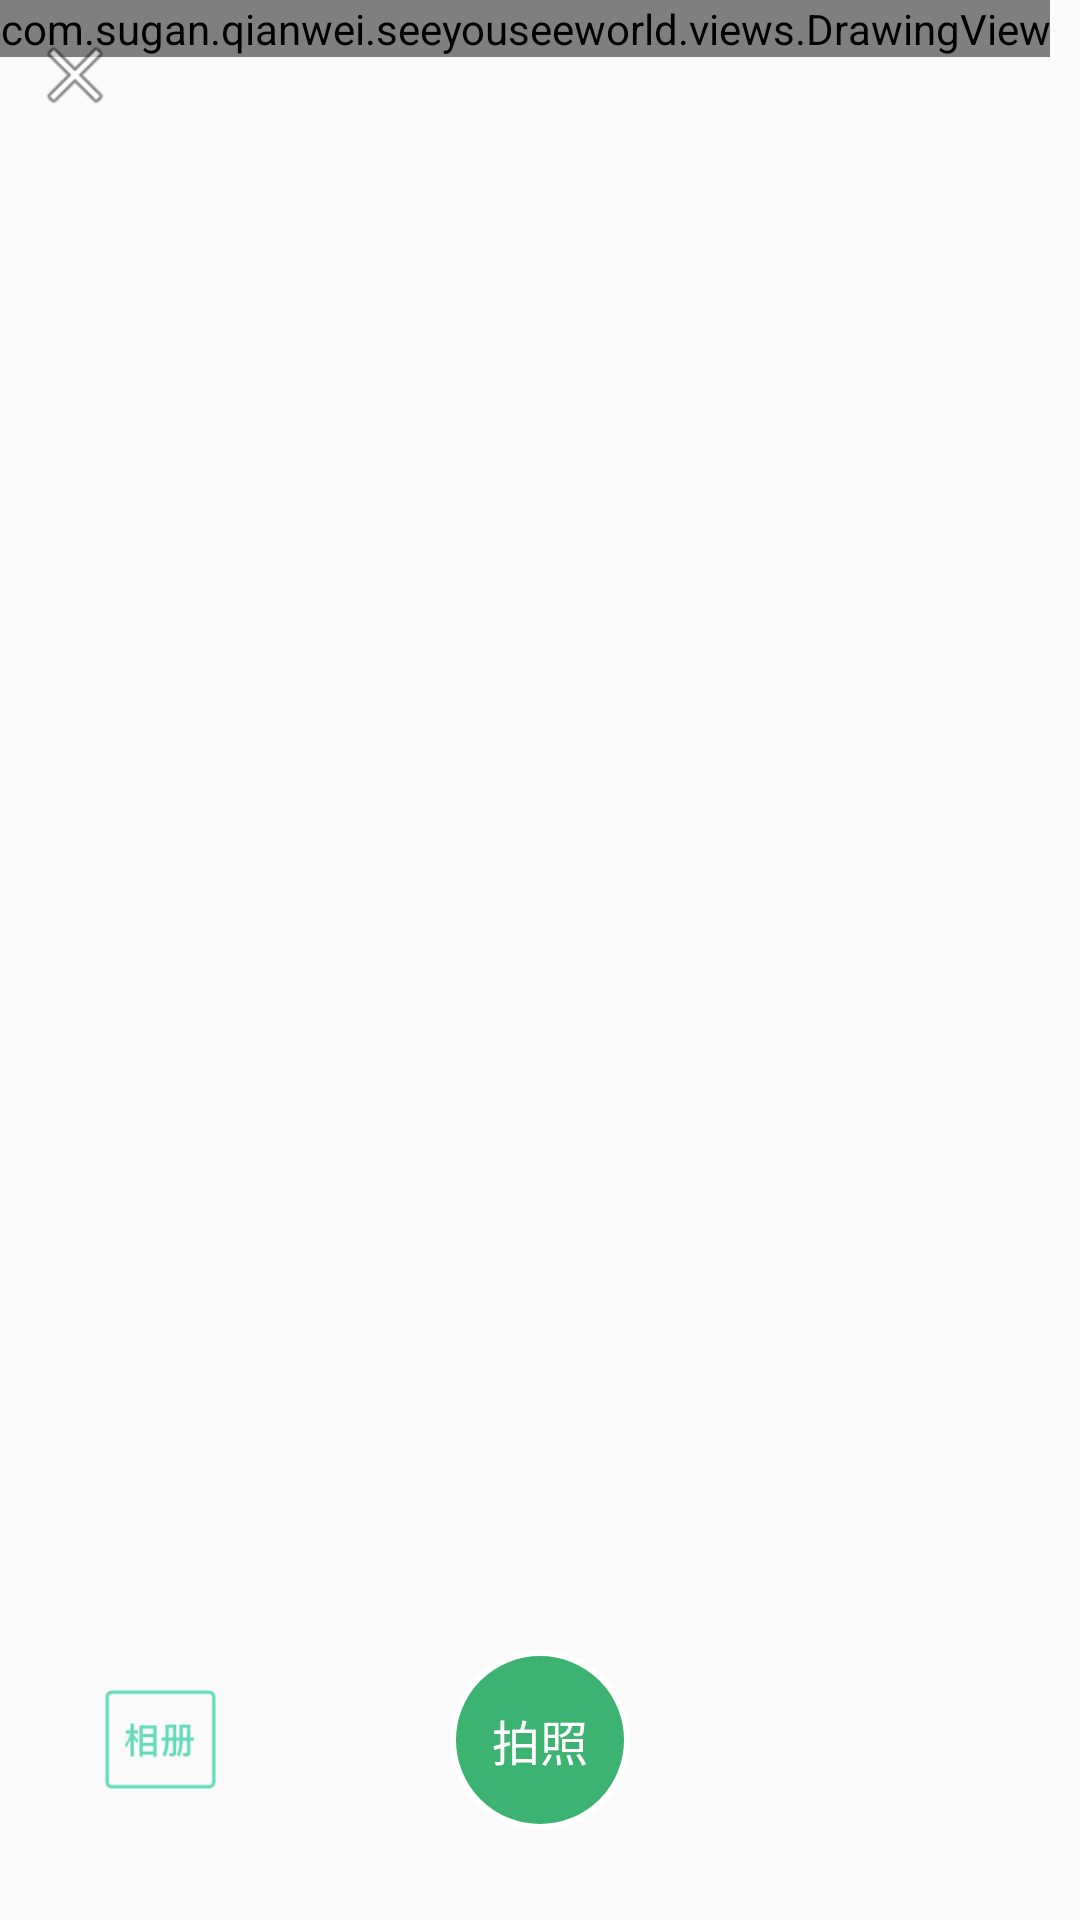

Icons on this 1080×1920 Android screen, each with the point to tap as point (x, y):
close clear cancel: point (75, 75)
